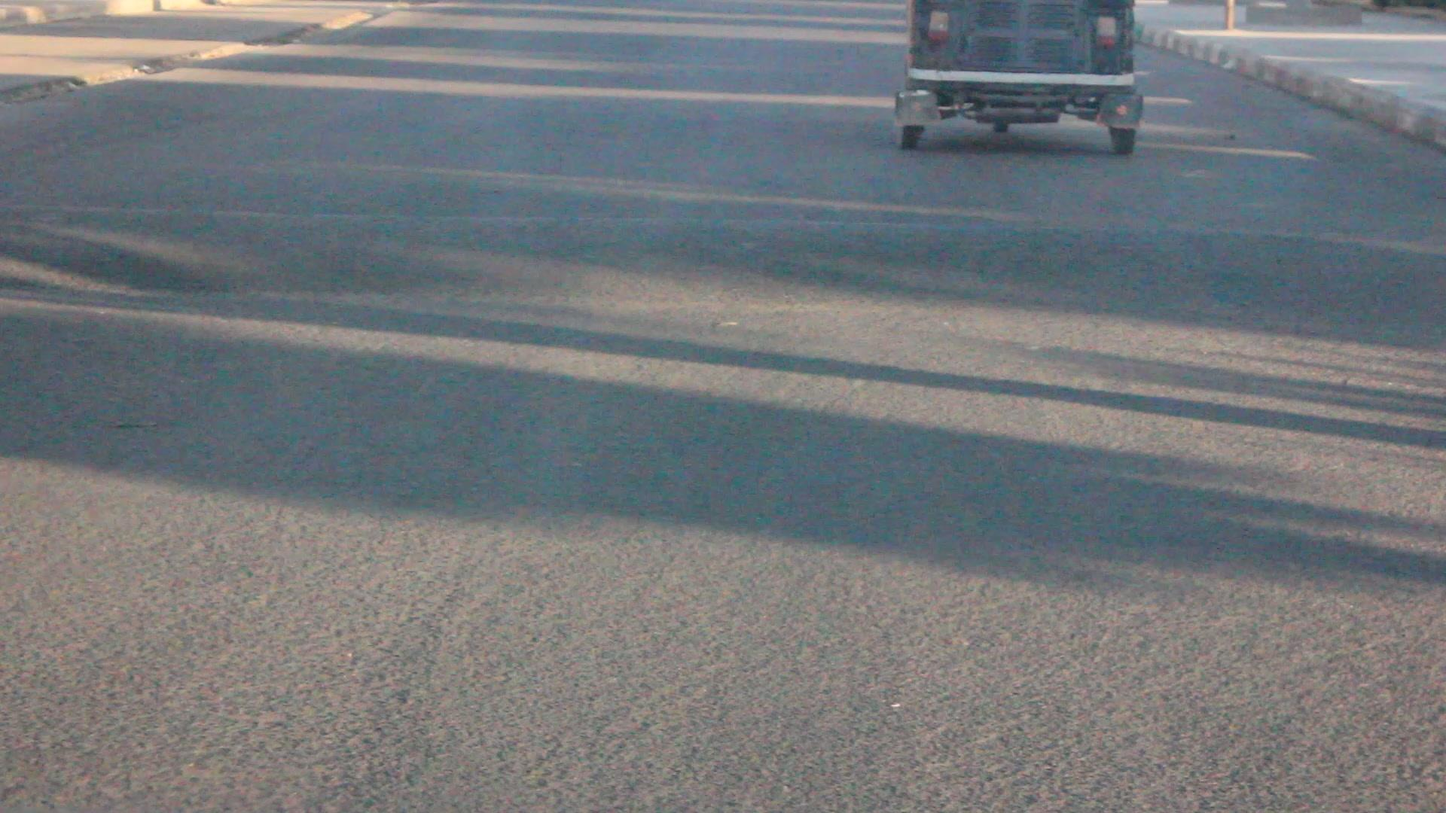Bump: (13, 203, 1446, 344)
